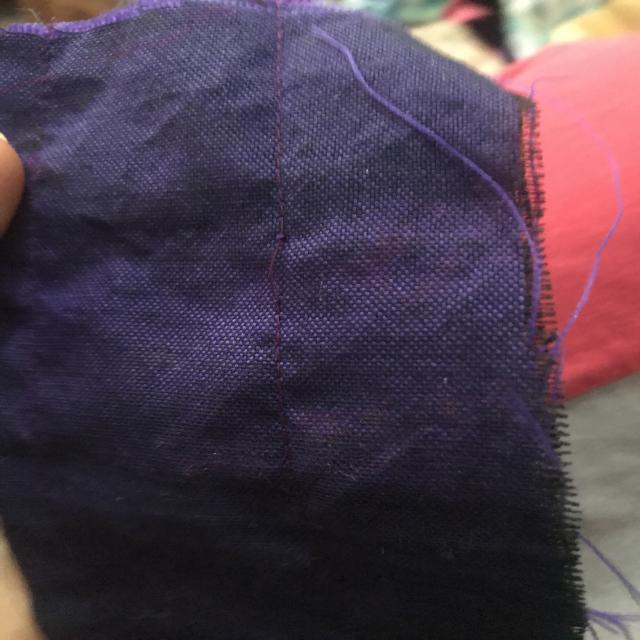skip: (242, 231, 308, 316)
